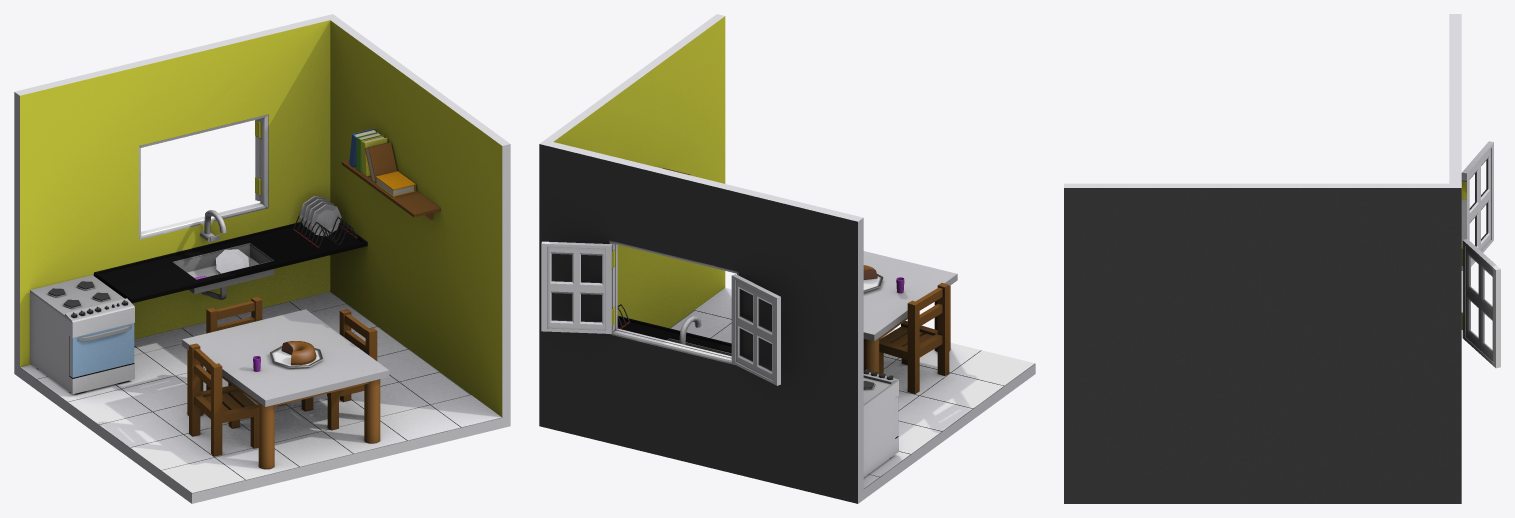
Rendered from Low Poly Isometric Style Kitchen.fbx.
The picture shows the model from 3 angles, left to right: view 1: azimuth 30°, elevation 25°; view 2: azimuth 150°, elevation 25°; view 3: azimuth 270°, elevation 25°; orthographic projection. The views are drawn at different scales.
Parts seen in each view (by area): view 1: Object001, Object003, Object002; view 2: Object002, Object003, Object001; view 3: Object002, Object003, Object001.
Boxes of the visible parts, <box> form: Object001: <box>14,14,509,493</box>; Object003: <box>14,92,510,503</box>; Object002: <box>14,15,510,503</box>; Object002: <box>539,142,1035,503</box>; Object003: <box>540,146,1034,497</box>; Object001: <box>540,14,1034,488</box>; Object002: <box>1064,80,1461,503</box>; Object003: <box>1064,141,1500,502</box>; Object001: <box>1064,14,1461,187</box>.
Size of the model in its own units: 70.9 by 60 by 75.21.
